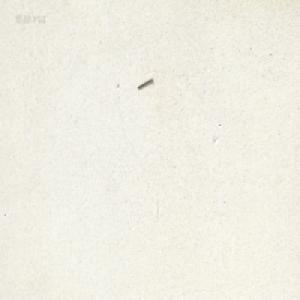Bolt: (136, 76, 152, 88)
